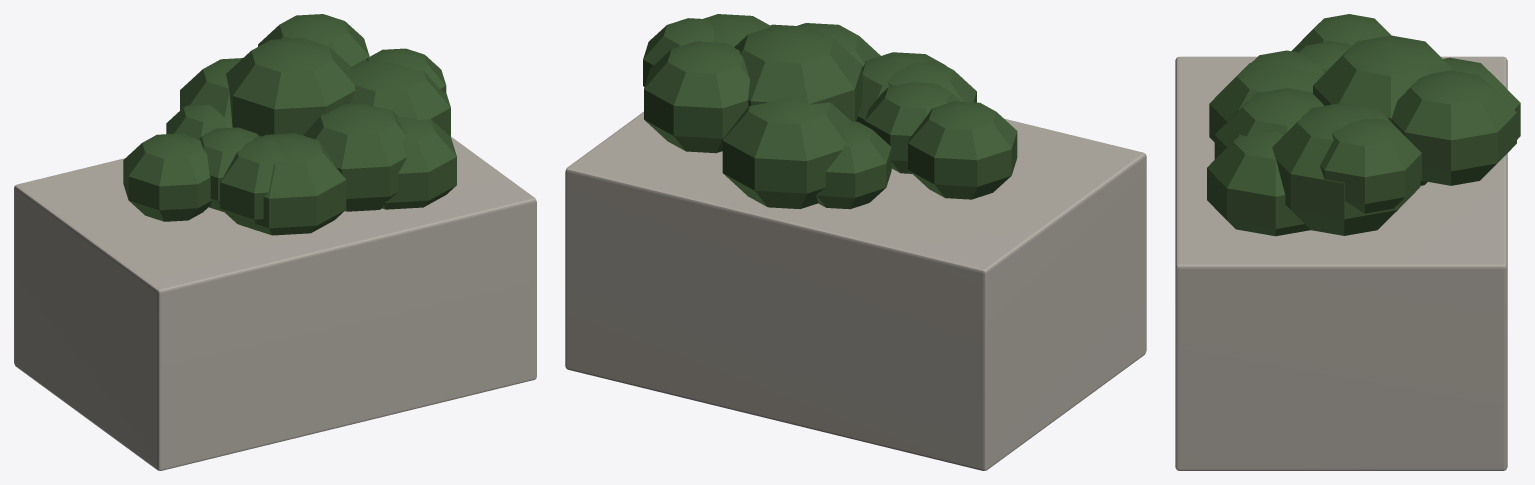
Rendered from prop_planter_street.glb.
The picture shows the model from 3 angles, left to right: view 1: azimuth 30°, elevation 25°; view 2: azimuth 150°, elevation 25°; view 3: azimuth 270°, elevation 25°; orthographic projection. The views are drawn at different scales.
Visible parts, largest first — view 1: Planter; view 2: Planter; view 3: Planter.
Boxes of the visible parts, bbox=[...] form: Planter: bbox=[14, 14, 536, 470]; Planter: bbox=[565, 14, 1146, 470]; Planter: bbox=[1175, 14, 1520, 470].
Size of what is drawn, in the model's own units: 1.2 by 0.9145 by 0.8317.
